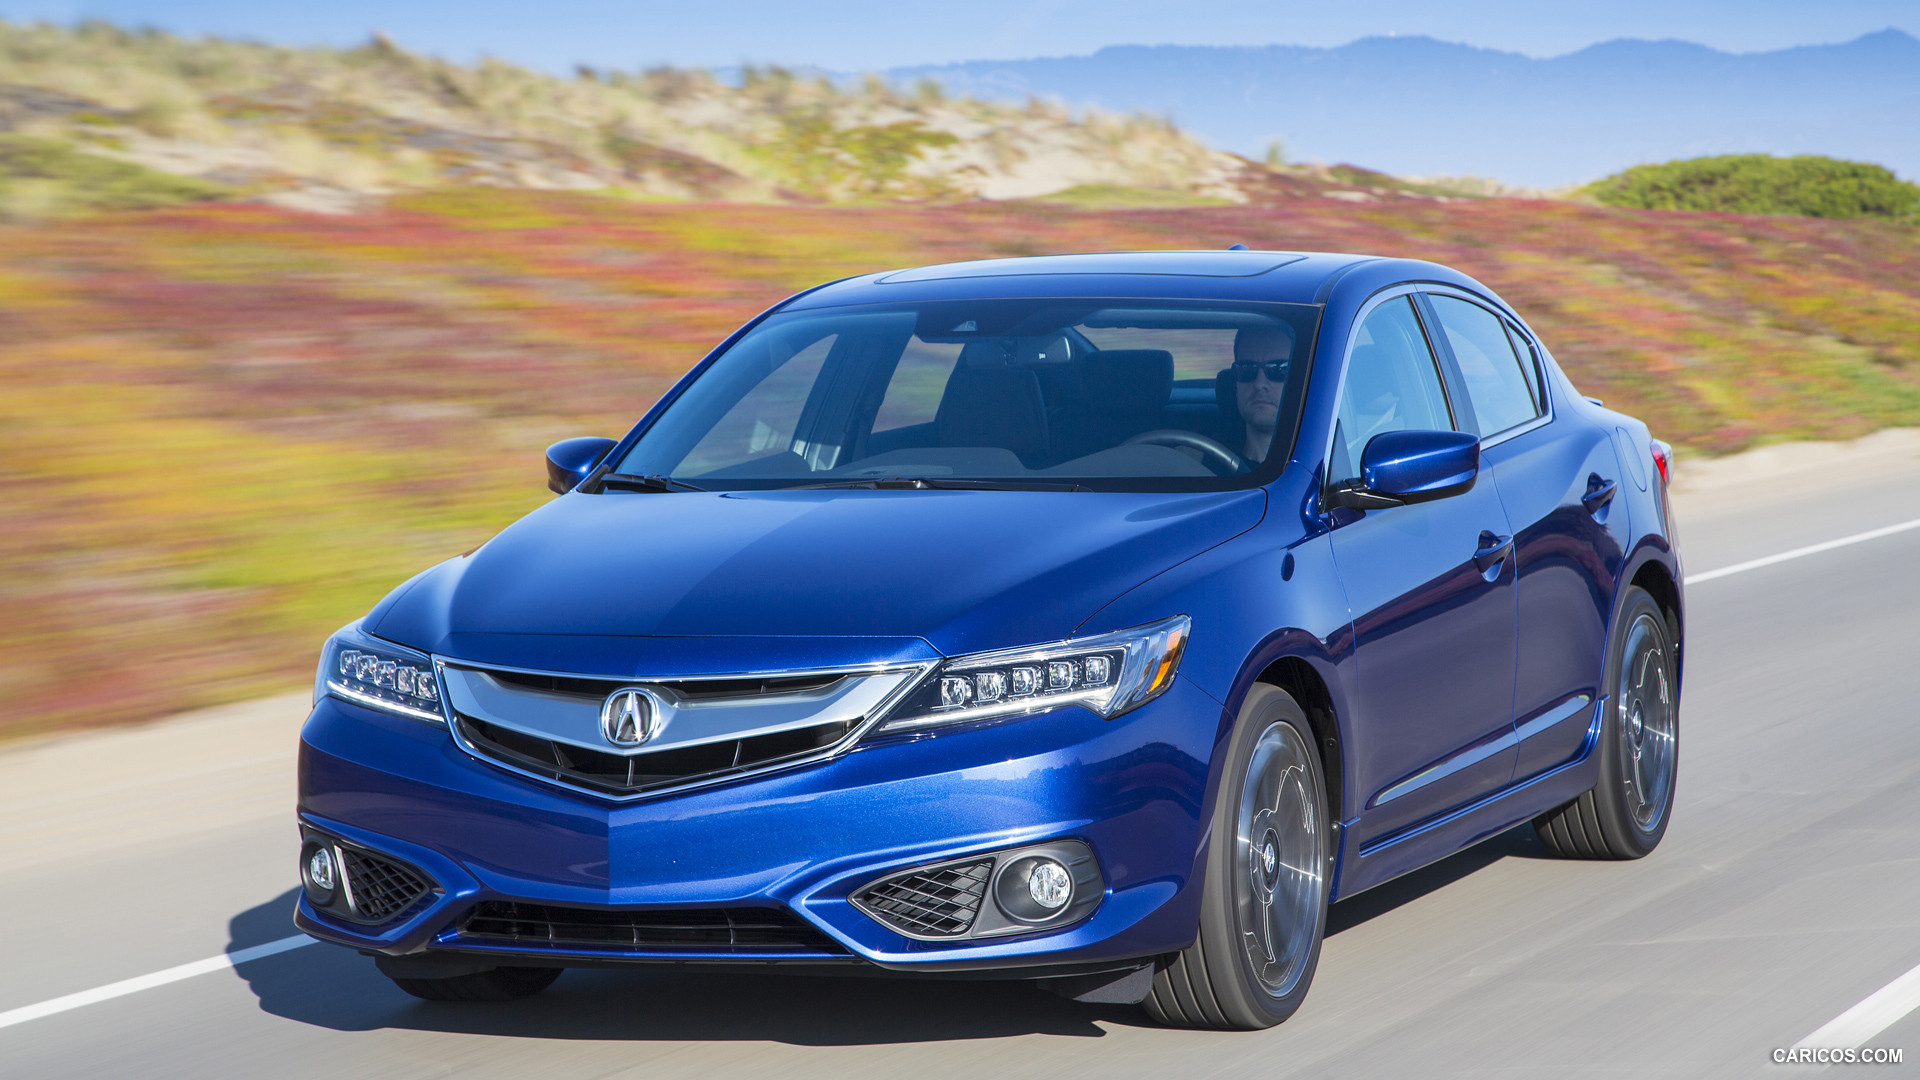Fog Lamp & Scope: (847, 824, 1120, 952)
Front: (289, 480, 1279, 964)
Front Bumper: (286, 728, 1224, 977)
Grill: (427, 641, 945, 806)
Headlight: (847, 611, 1201, 762)
